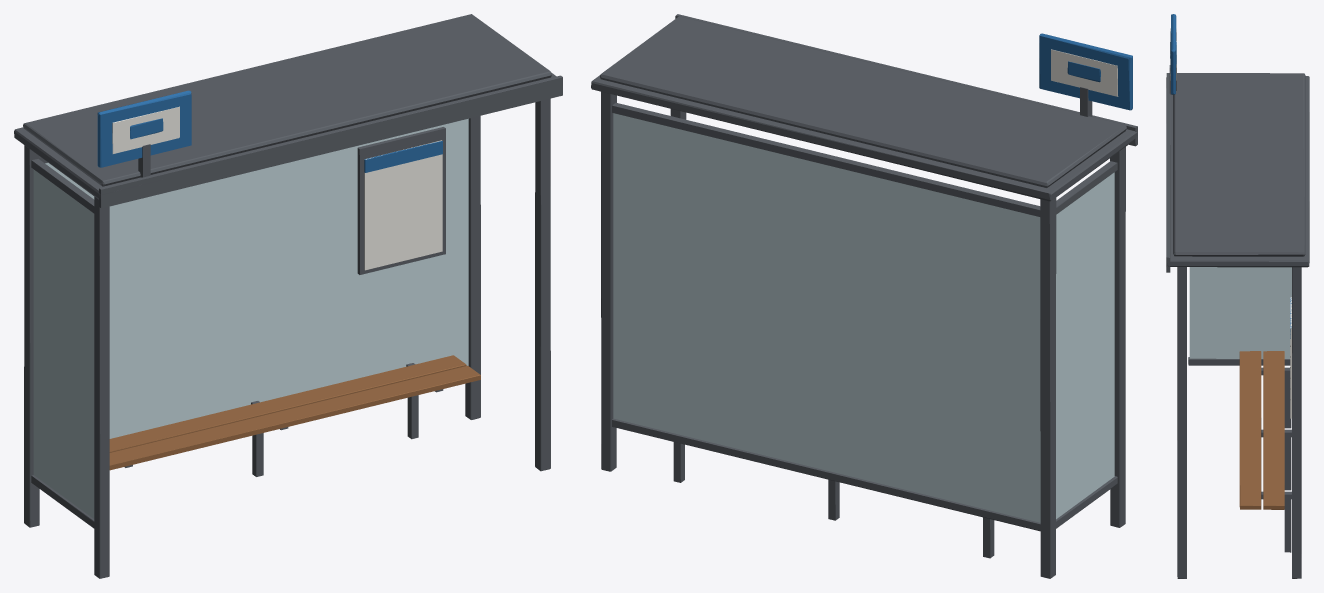
File: busStop.far.glb
The picture shows the model from 3 angles, left to right: view 1: azimuth 30°, elevation 25°; view 2: azimuth 150°, elevation 25°; view 3: azimuth 270°, elevation 25°; orthographic projection. The views are drawn at different scales.
Parts seen in each view (by area): view 1: busStop_far; view 2: busStop_far; view 3: busStop_far.
Part boxes in pixels (box(x1,y1,x2,y2)): busStop_far: box(14, 14, 562, 578); busStop_far: box(591, 14, 1137, 578); busStop_far: box(1166, 14, 1309, 578).
Bounding box in the file's own units: 2.98 × 2.89 × 0.9763.
